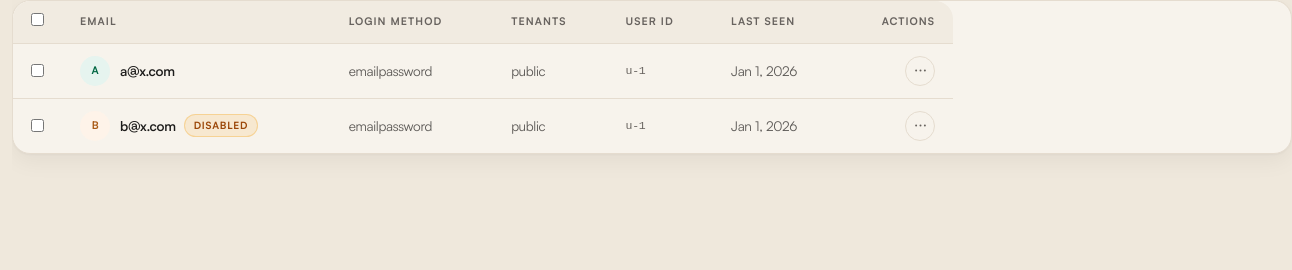
UsersTable › keeps a rejected sweep inside the table and holds the selection
Click the checkbox named "select all users" at x=38, y=20, box [31, 13, 44, 26]
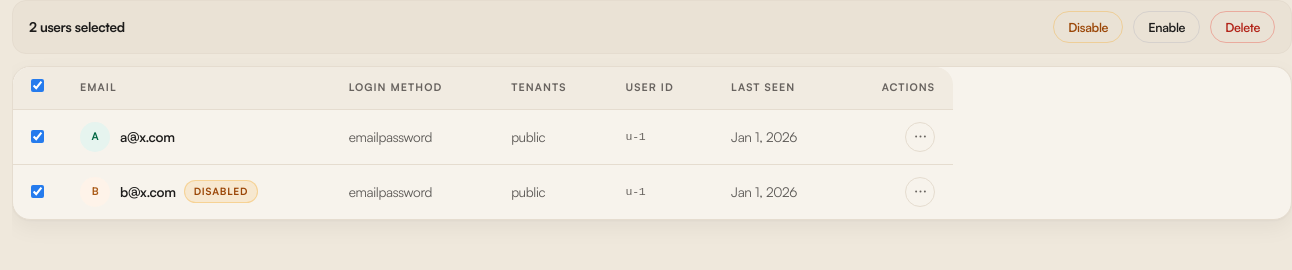
Click the button "Disable" at x=1088, y=27, box [1053, 11, 1123, 43]
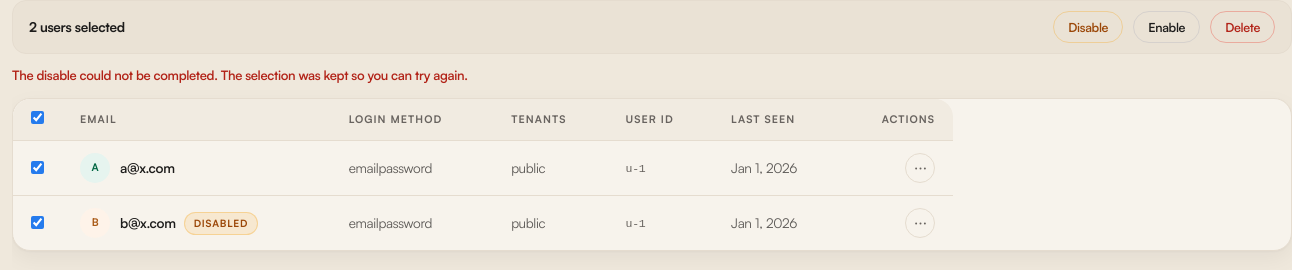
expect the text "2 users selected" is shown: met, box [29, 17, 125, 37]
expect the checkbox named "select a@x.com" is checked: met, box [31, 161, 44, 174]
expect the message reads "The disable could not be completed. The selection was kept so you can try again.": met, box [12, 67, 468, 83]
